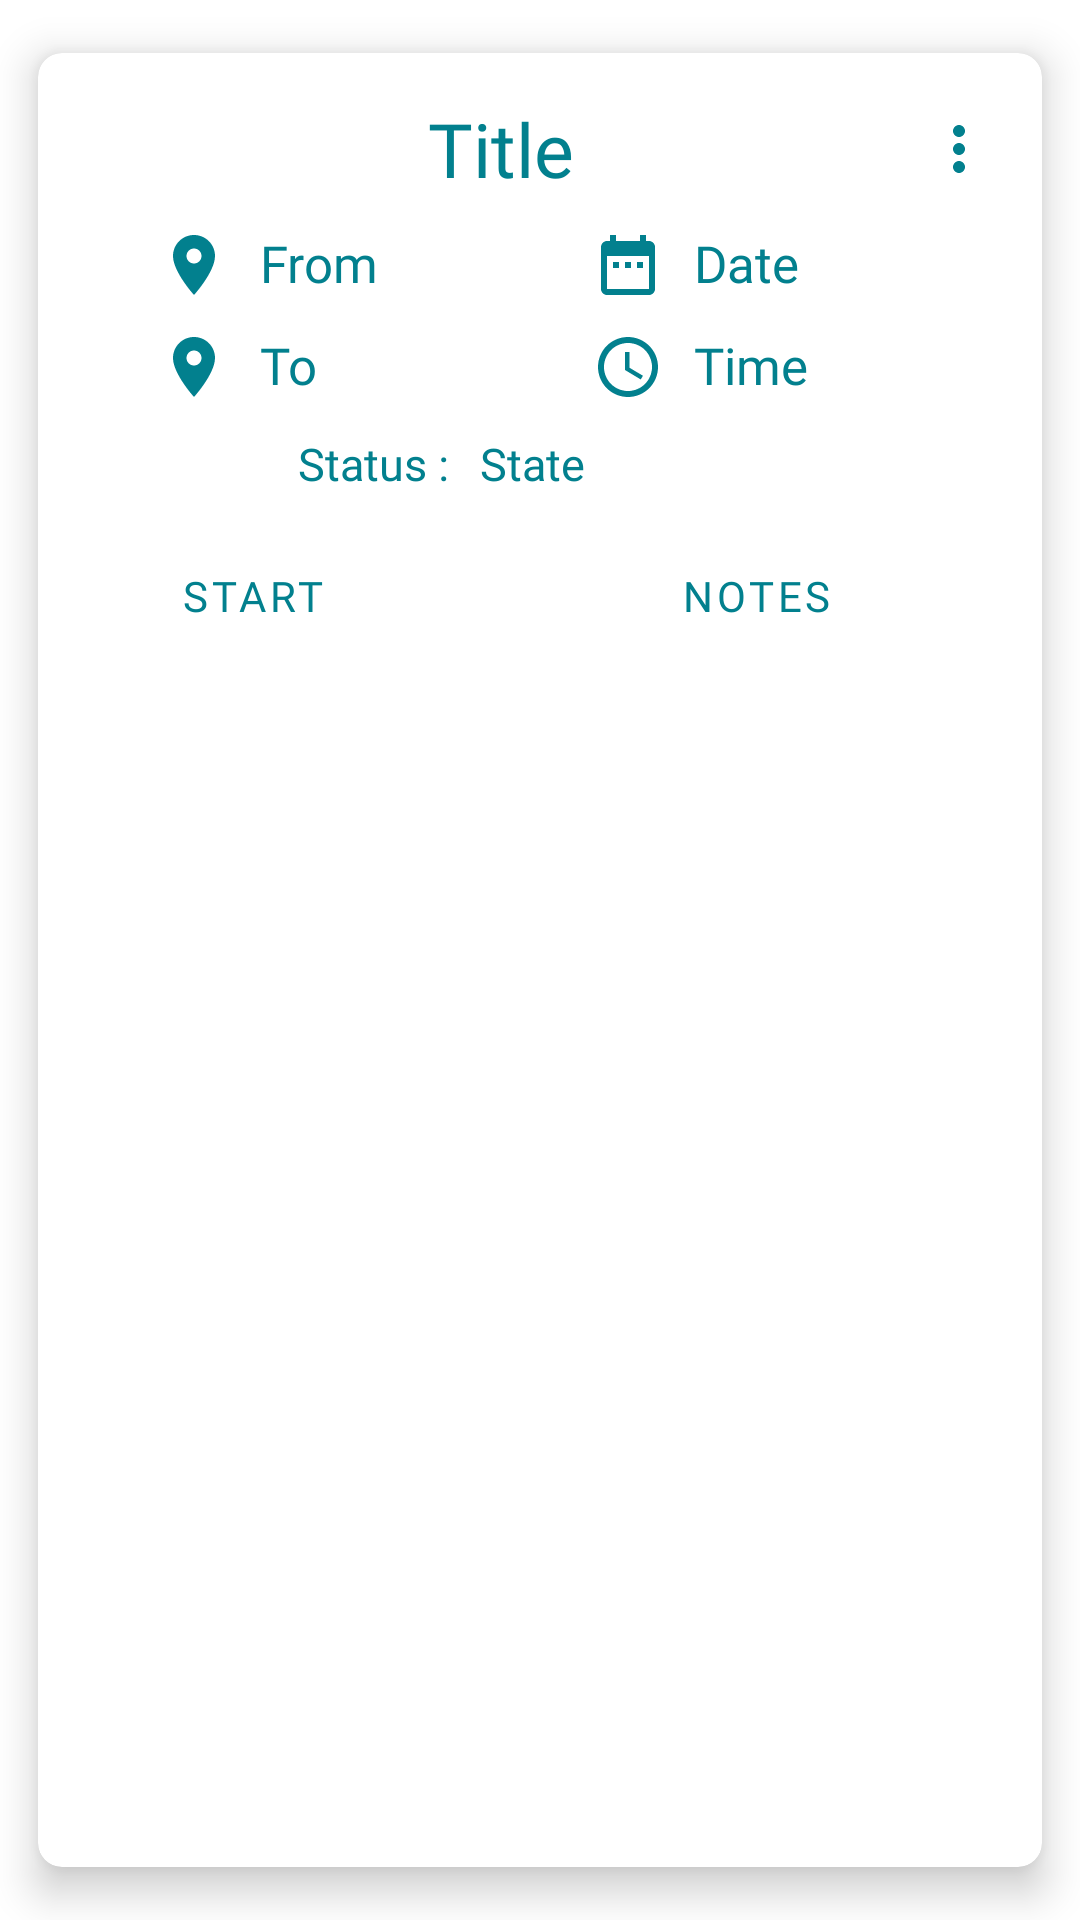

Screen size 1080*1920. Icon name, then its center in pixels as point (x, y):
more vert: point (959, 149)
